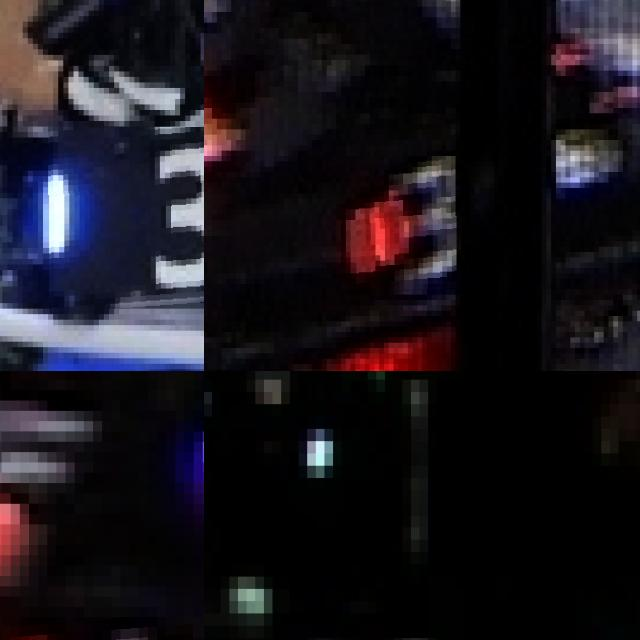B3: (43, 126, 204, 314)
R3: (351, 156, 470, 295)
